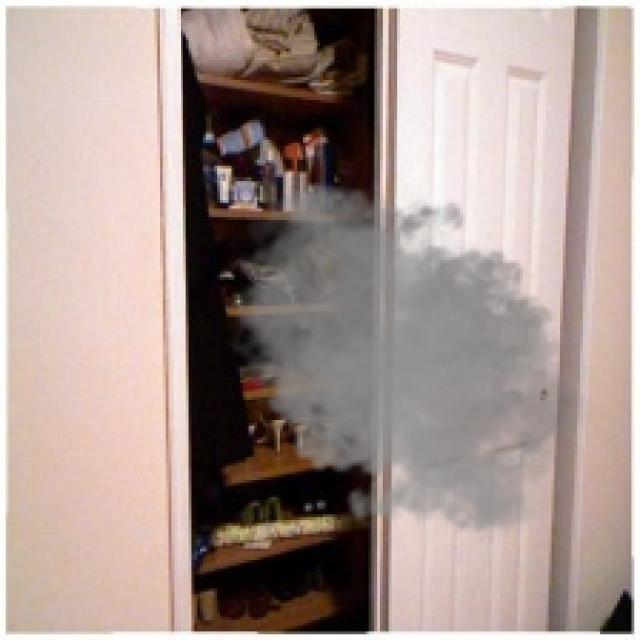Smoke: (223, 177, 603, 546)
